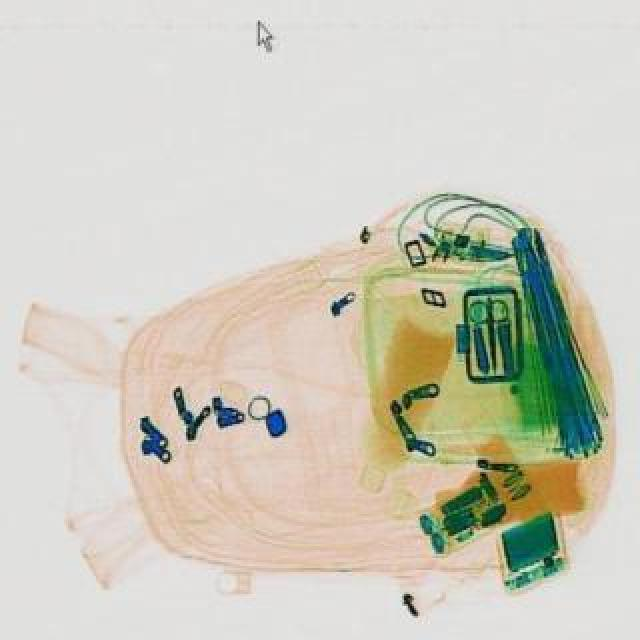pliers: (466, 298, 514, 374)
